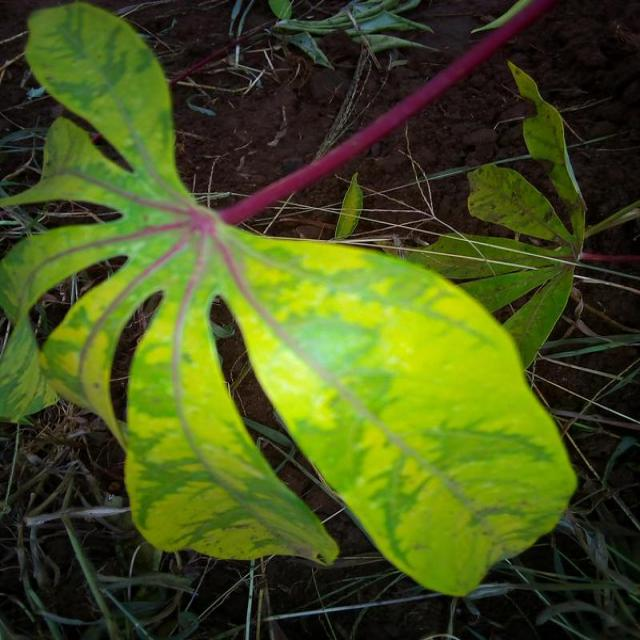cassava leaf: (1, 1, 578, 597), (213, 223, 578, 597)
